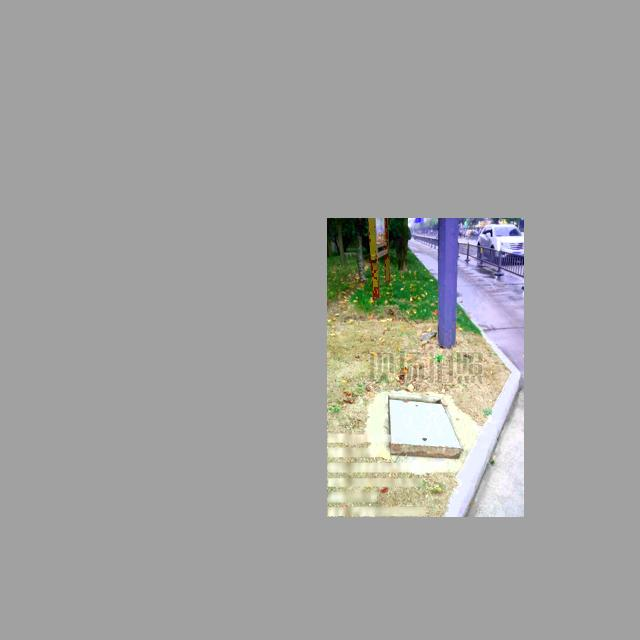uncovered: (385, 392, 462, 460)
